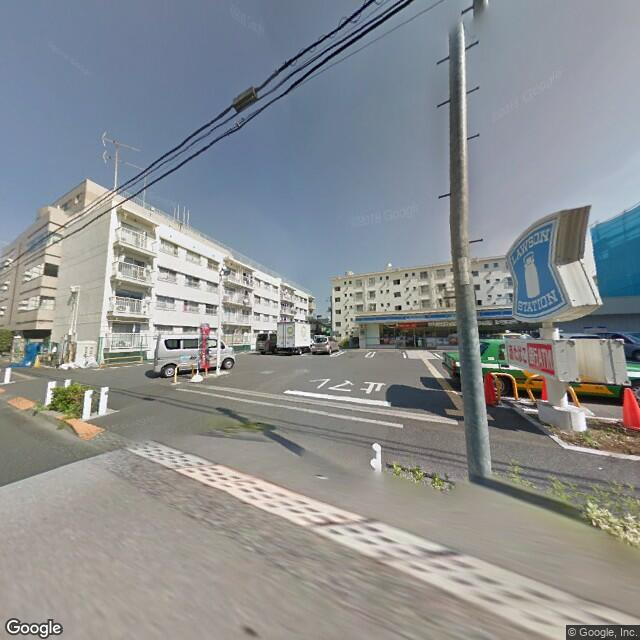lawson: (509, 208, 570, 318), (354, 302, 516, 324)
